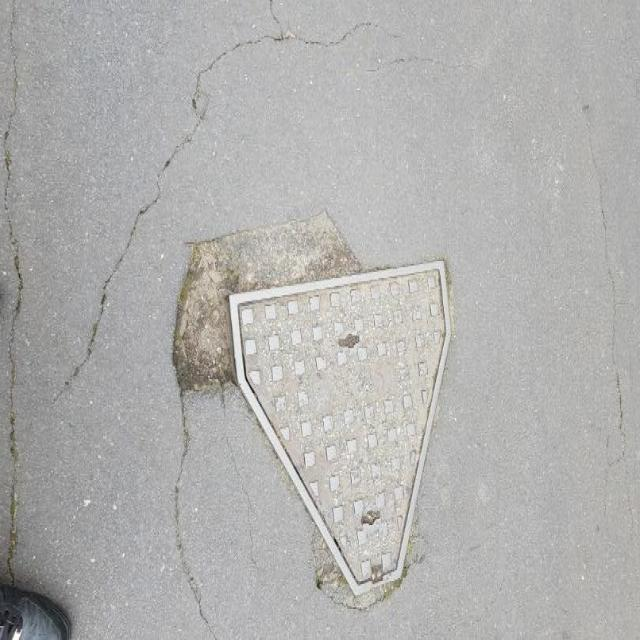Pothole: (171, 200, 374, 402)
